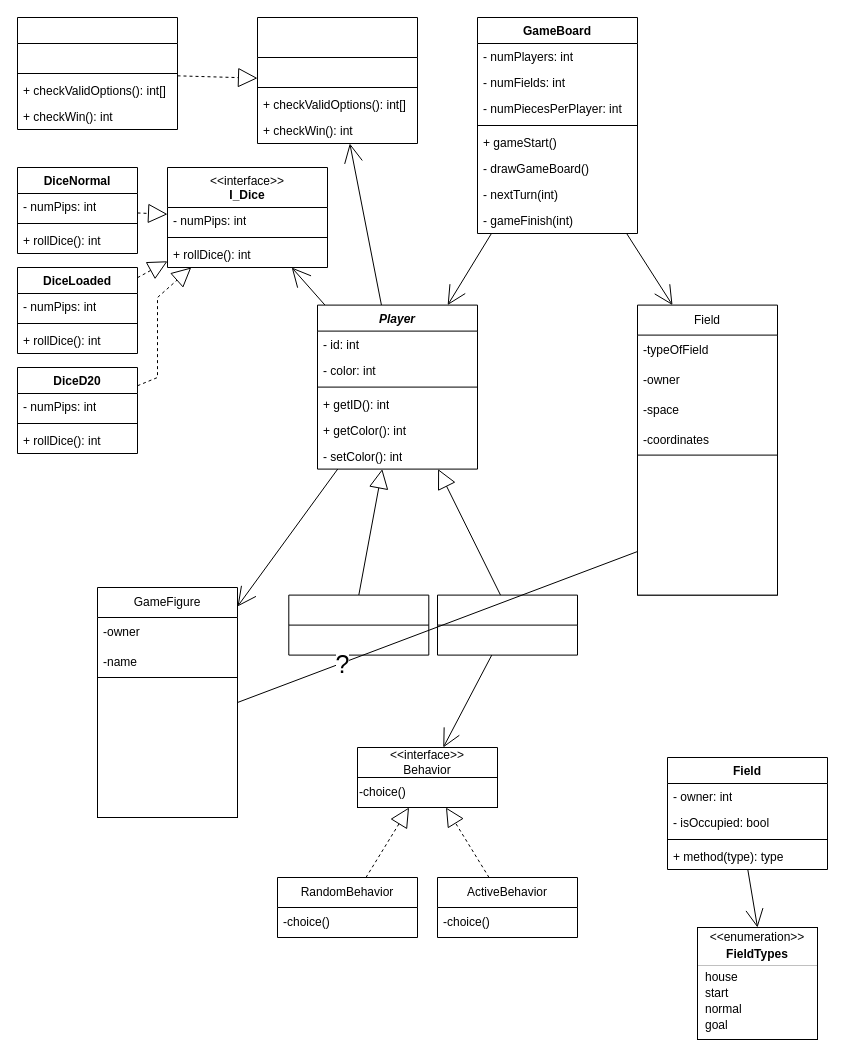
The diagram is 845 pixels wide and 1057 high, and some of its shapes have lost their labels. Each missing label, with the box of its shape:
+move() +destroy() +moveFromHome() +getField() +setField(): (96, 676, 238, 818)
+nextField() +getOwner() +getTypeOfField +getPiece() +setPiece(): (636, 454, 778, 595)
<<interface>> I_RuleSet: (256, 16, 418, 144)
NPC: (436, 594, 578, 655)
PC: (288, 594, 429, 655)
RuleSetStandard: (16, 16, 178, 130)
